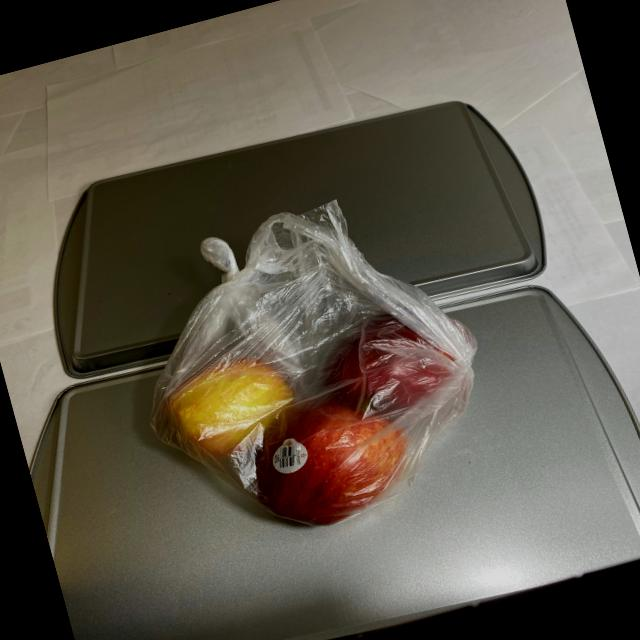apple: (143, 288, 510, 561)
